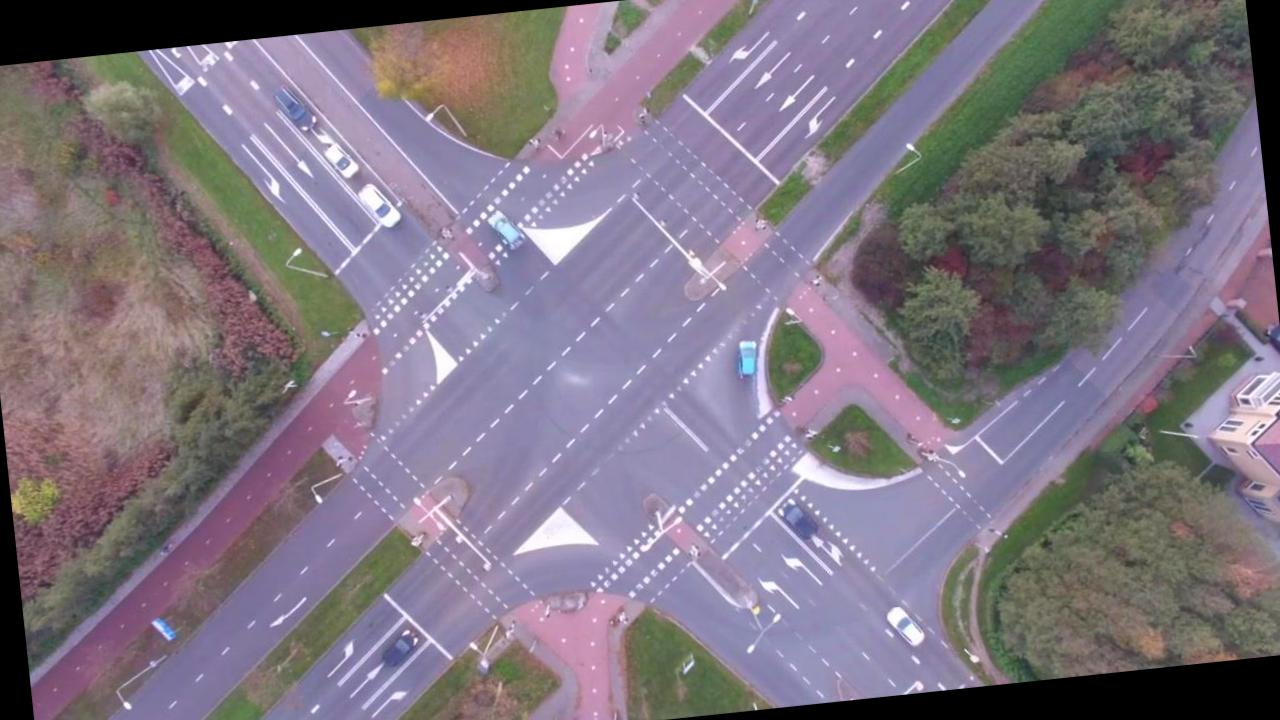vehicle: (271, 78, 318, 134), (355, 178, 404, 231), (775, 494, 821, 544), (885, 602, 927, 650), (486, 206, 528, 252), (379, 626, 421, 668), (322, 139, 362, 181), (734, 336, 762, 378)
